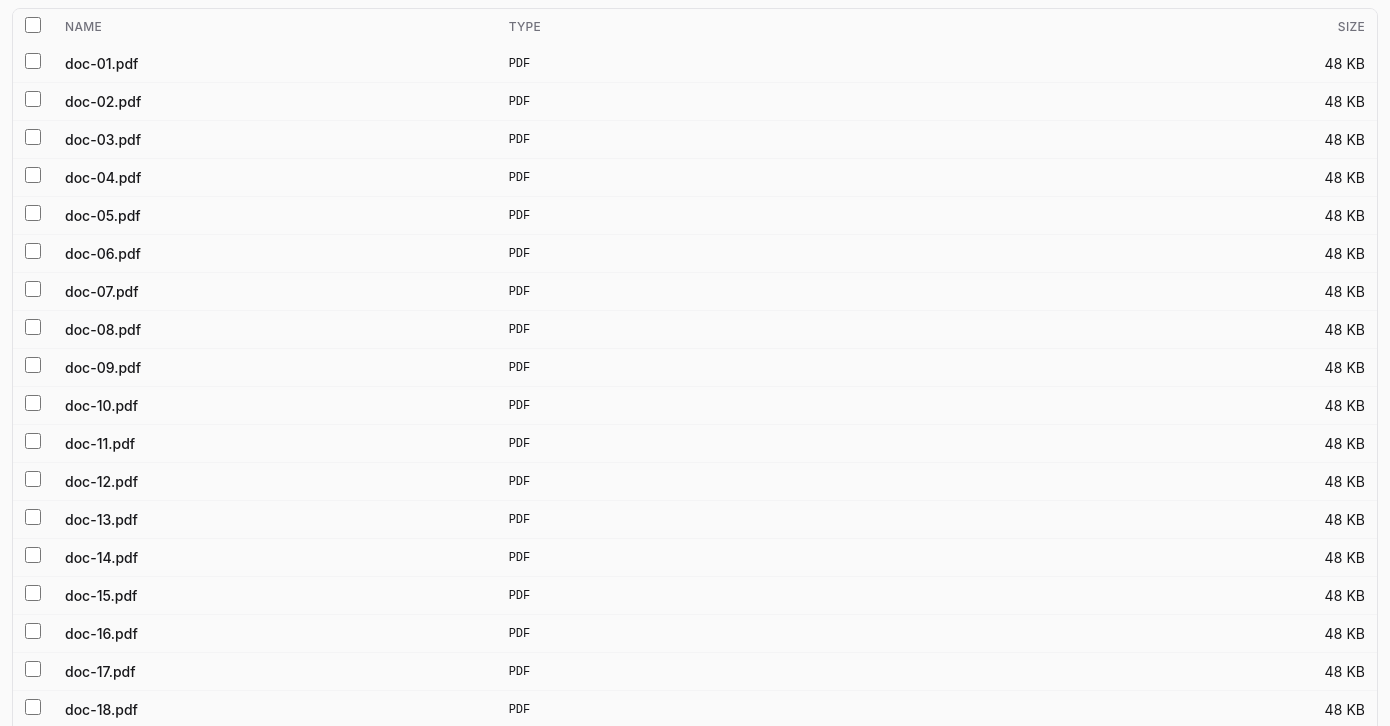
Test: FileTable › keeps selections made on other pages
Click the checkbox named "Select doc-01.pdf". click: (33, 61)
box: [25,53,41,69]
(page scrolled)
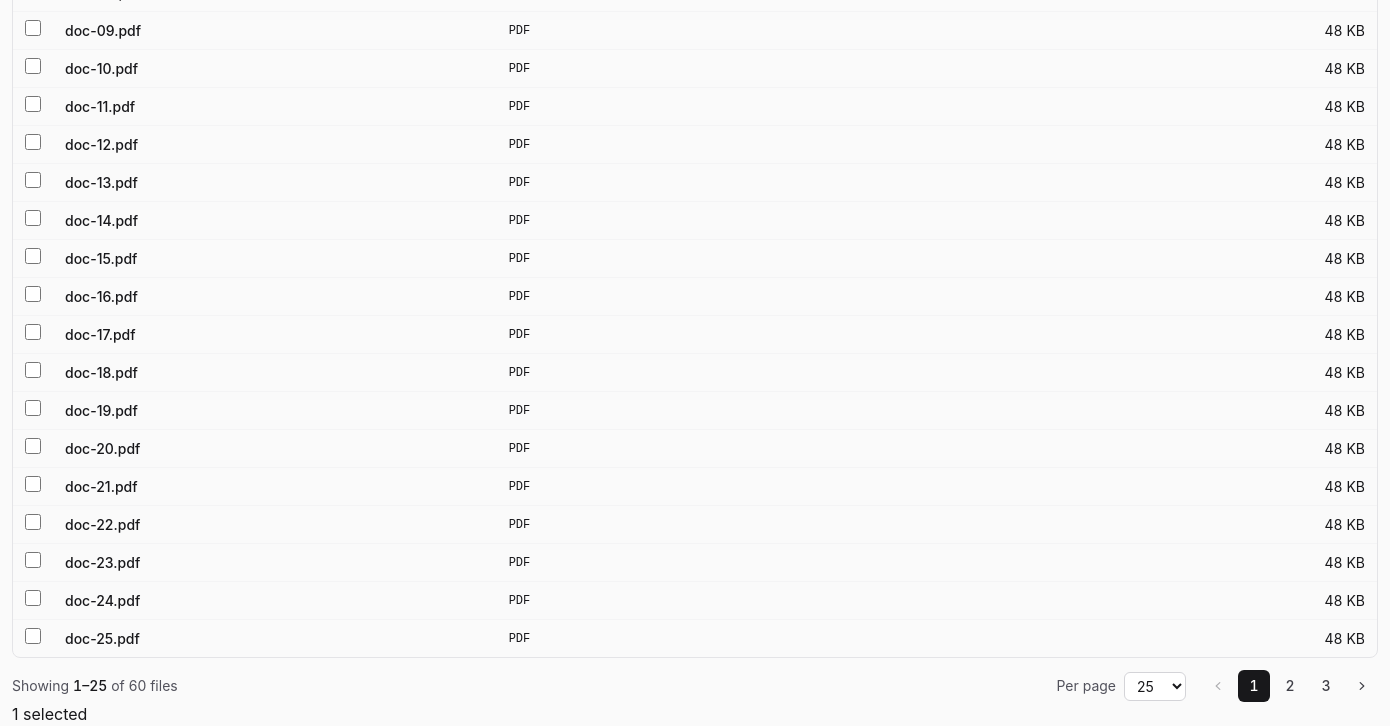
Click the button named "Next page". click: (1362, 686)
box: [1346,670,1378,702]
(page scrolled)
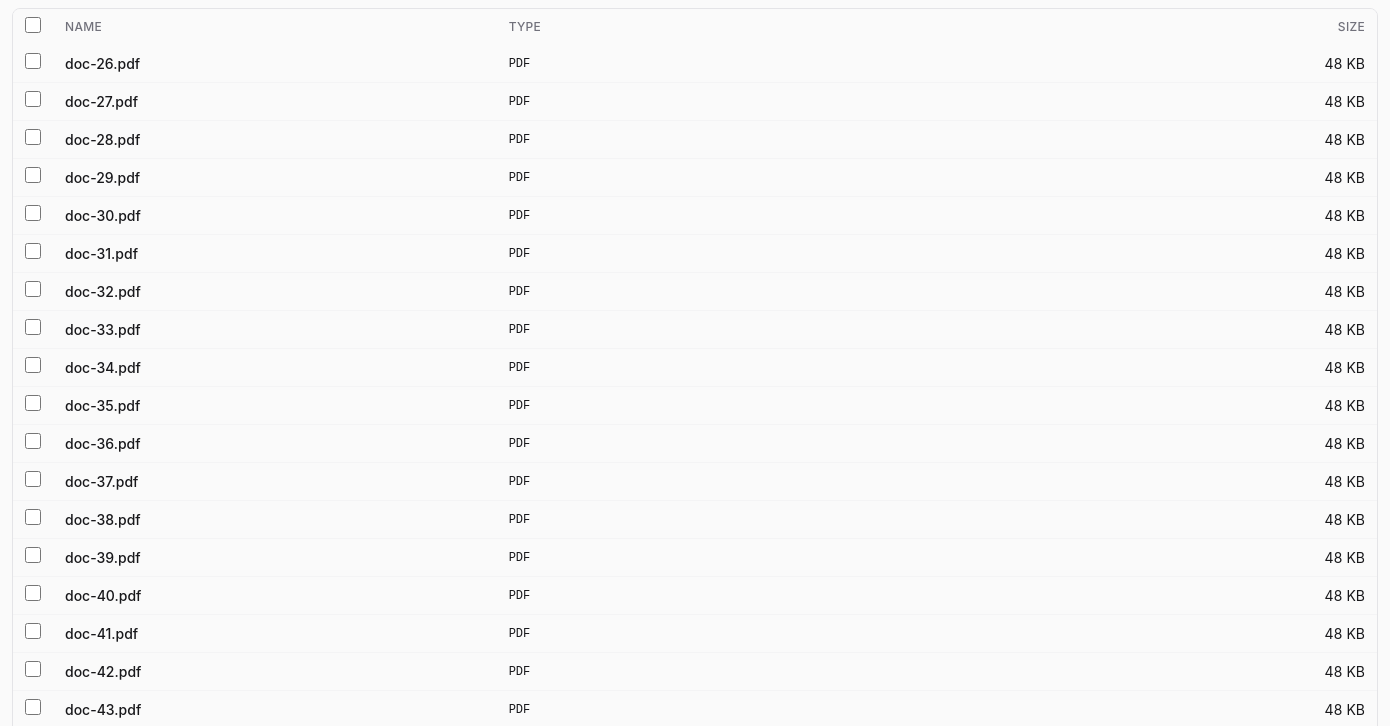
Click the checkbox named "Select all files on this page". click: (33, 25)
box: [25,17,41,33]
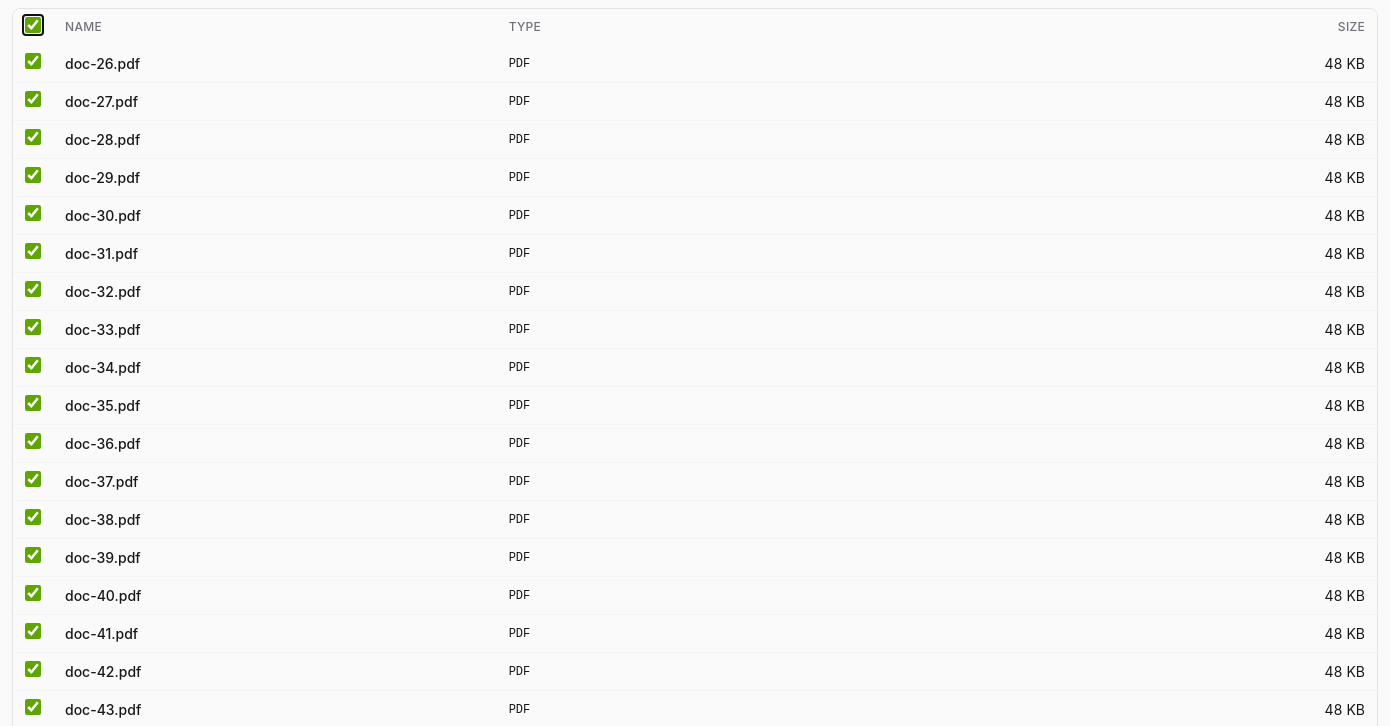
Click the checkbox named "Select all files on this page". click: (33, 25)
box: [25,17,41,33]
(page scrolled)
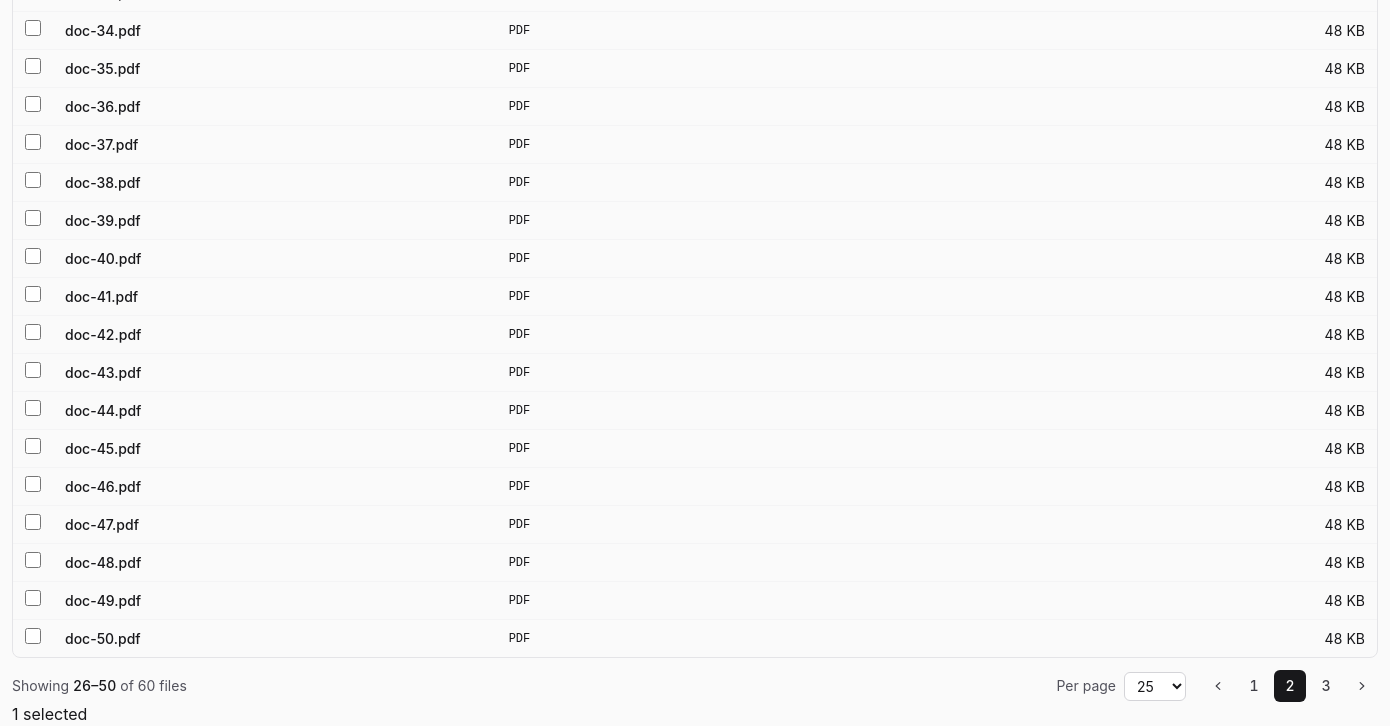
Result: the text "1 selected" is shown at [12,704,87,724]
